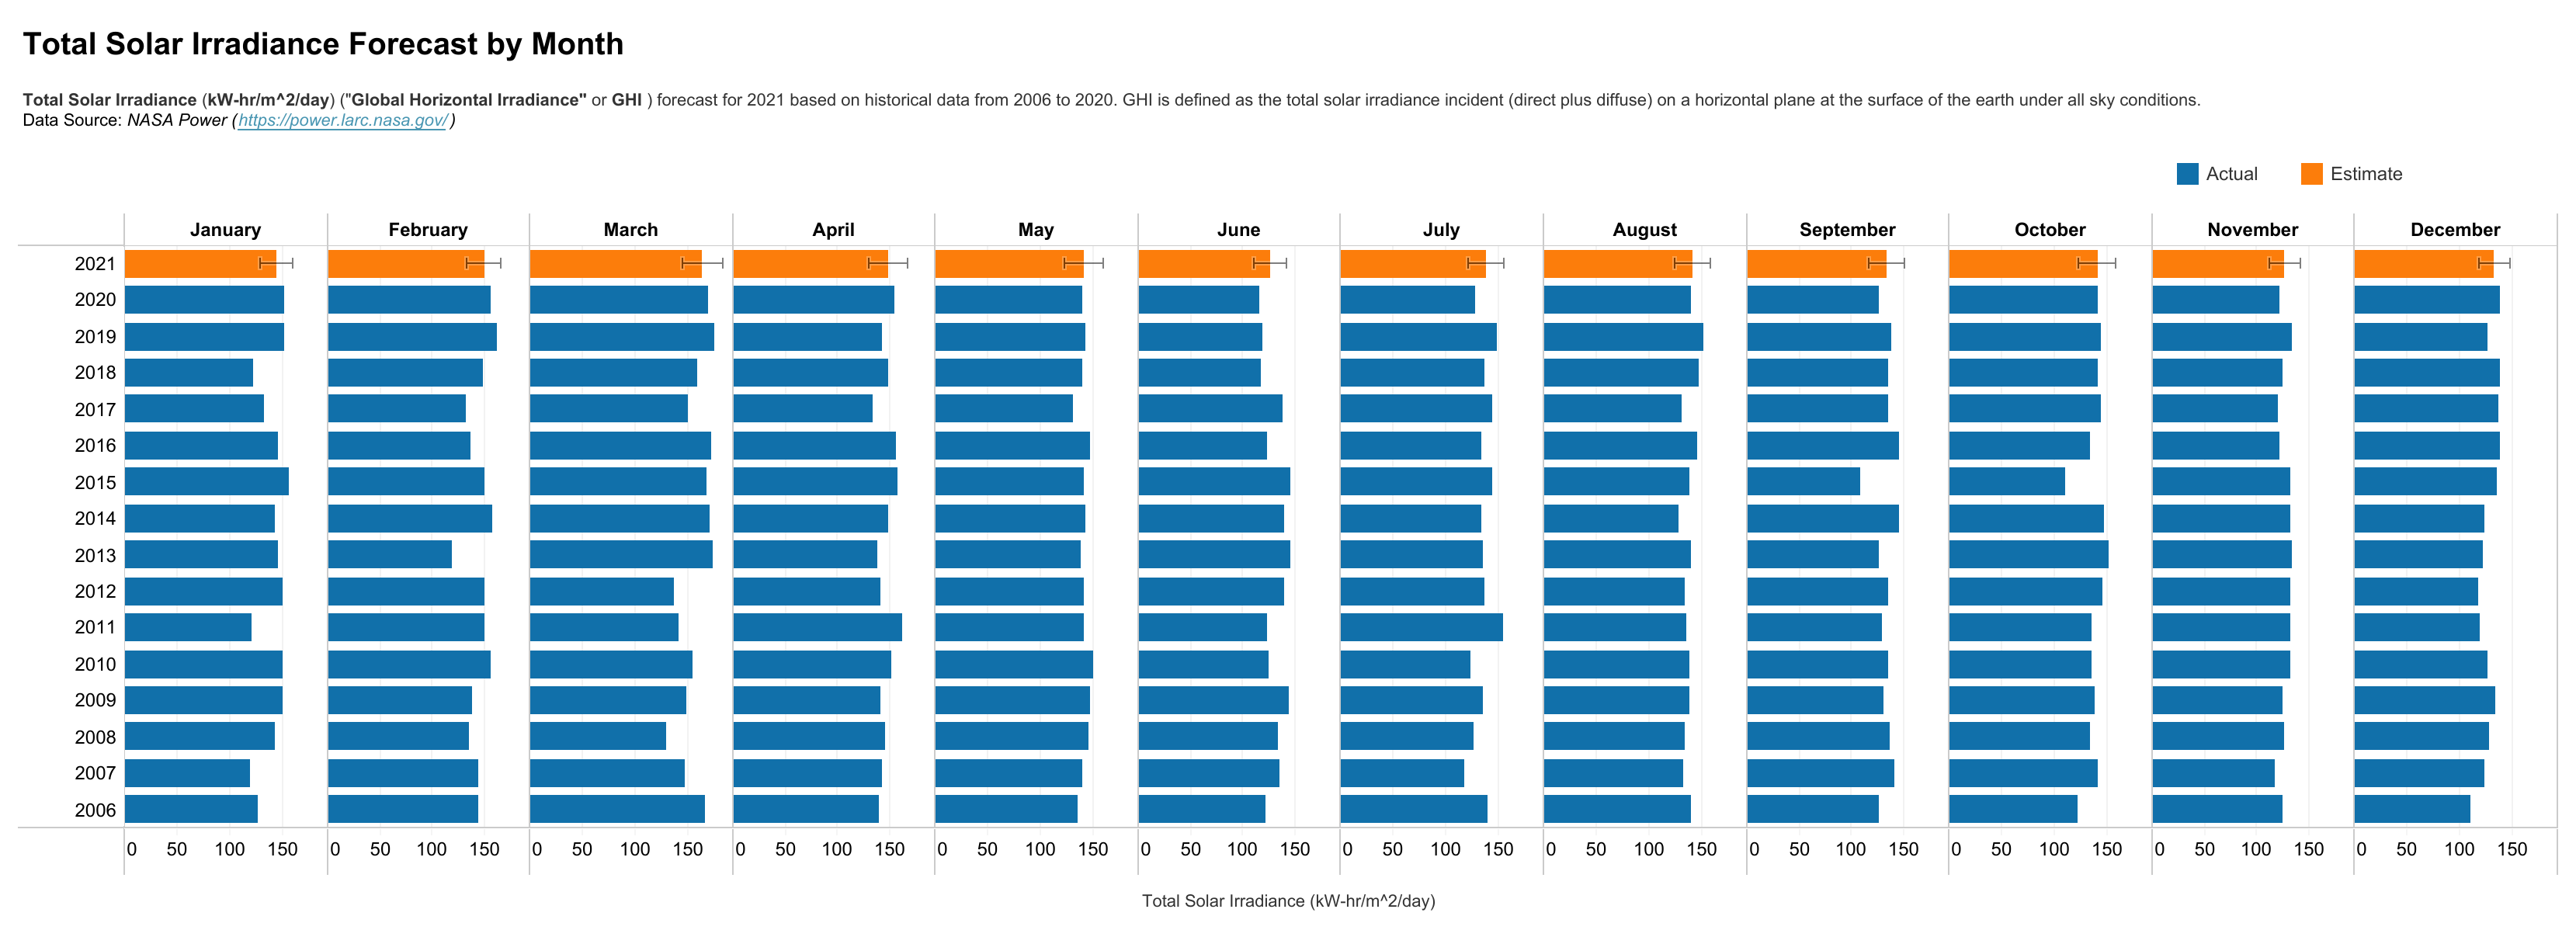

This screenshot's page, from the dashboard's own definition file:
{"tool":"tableau","page":{"name":"Irradiance Forecast by Month Dashboard","canvas":[1000,1000],"units":"permille","ordinal":1},"visuals":[{"type":"text","box":[6.3,13.3,987.4,138.3]},{"type":"worksheet","title":"Irradiance Forecast by Month-Sheet","mark":"Bar","rows":["F1"],"cols":["F1","F2"],"box":[6.3,223.8,987.4,723.1]},{"type":"text","box":[6.3,946.9,987.4,39.8]}]}

Visuals, with their boxes on the dashboard's canvas, which has no fixed pixel size, in thousandths of its width and height (x1, y1, x2, y2). These are canvas units, not pixel positions in the 2576x930 screenshot, which may show the page scaled, cropped or inside an application window:
text: {"left": 6, "top": 13, "right": 994, "bottom": 152}
"Irradiance Forecast by Month-Sheet" worksheet (Bar marks): {"left": 6, "top": 224, "right": 994, "bottom": 947}
text: {"left": 6, "top": 947, "right": 994, "bottom": 987}
